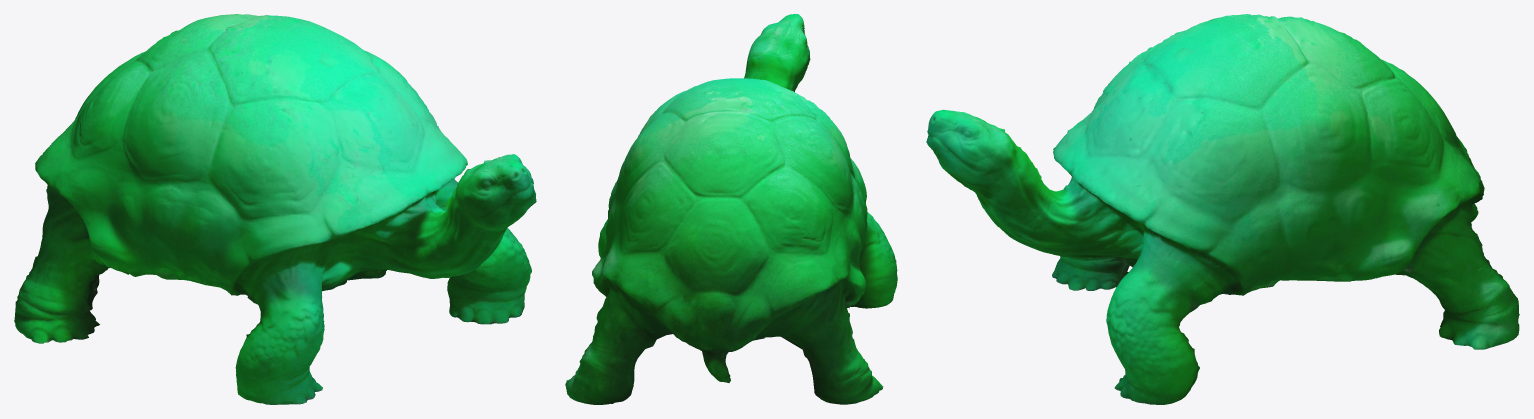
File: adwaita_model.glb
3 renders of one model, left to right at view 1: azimuth 30°, elevation 25°; view 2: azimuth 150°, elevation 25°; view 3: azimuth 270°, elevation 25°, orthographic. The views are drawn at different scales.
Parts seen in each view (by area): view 1: AdwaitaScanBake_Model; view 2: AdwaitaScanBake_Model; view 3: AdwaitaScanBake_Model.
Boxes of the visible parts, box(x1,y1,x2,y2) form: AdwaitaScanBake_Model: box(14, 14, 536, 404); AdwaitaScanBake_Model: box(565, 14, 897, 404); AdwaitaScanBake_Model: box(926, 14, 1519, 404).
Size of the model in its own units: 1.27 by 0.8432 by 1.61.
Materials: 1 (1 with a texture image).
